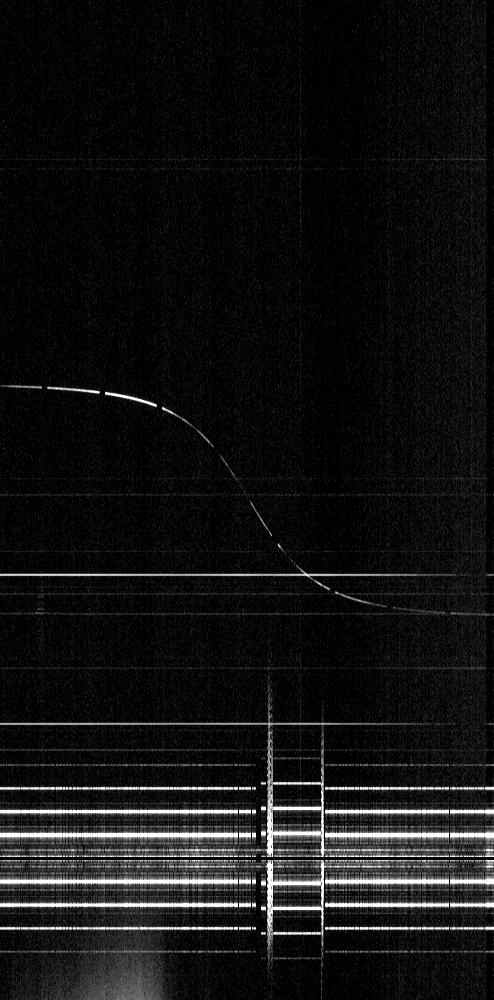signal: (0, 0, 493, 999)
